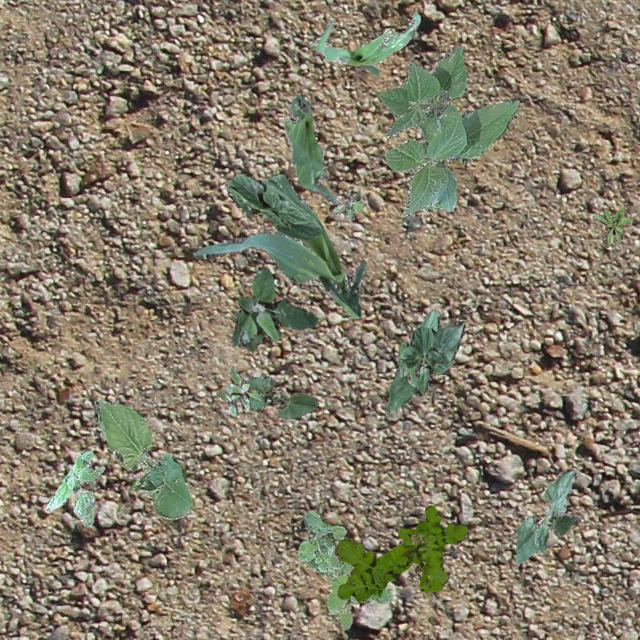crop: (192, 172, 366, 318), (376, 46, 518, 218), (94, 398, 192, 518), (308, 12, 419, 74), (388, 308, 453, 412), (514, 468, 580, 566), (226, 173, 320, 240), (282, 94, 336, 204), (395, 321, 463, 386), (242, 374, 318, 418)
weed: (334, 504, 466, 600), (296, 509, 392, 628), (230, 266, 316, 351), (44, 448, 104, 526), (216, 366, 262, 414), (592, 206, 632, 246), (332, 190, 362, 220)
